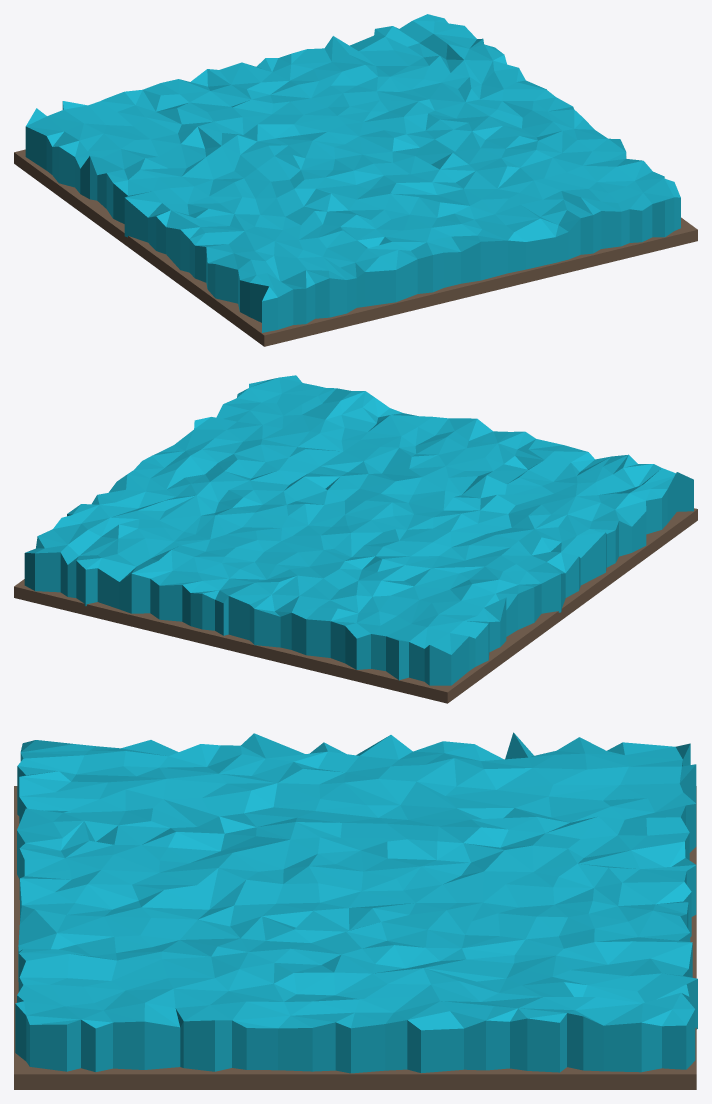
File: Water.fbx
The picture shows the model from 3 angles, top to bottom: view 1: azimuth 30°, elevation 25°; view 2: azimuth 150°, elevation 25°; view 3: azimuth 270°, elevation 25°; orthographic projection. The views are drawn at different scales.
Visible parts, largest first — view 1: Plane.017; view 2: Plane.017; view 3: Plane.017.
Boxes of the visible parts, x1,y1,x2,y2 form: Plane.017: (14,14,697,346); Plane.017: (14,375,697,703); Plane.017: (14,732,697,1089).
Size of the model in its own units: 4013 by 484 by 4007.
